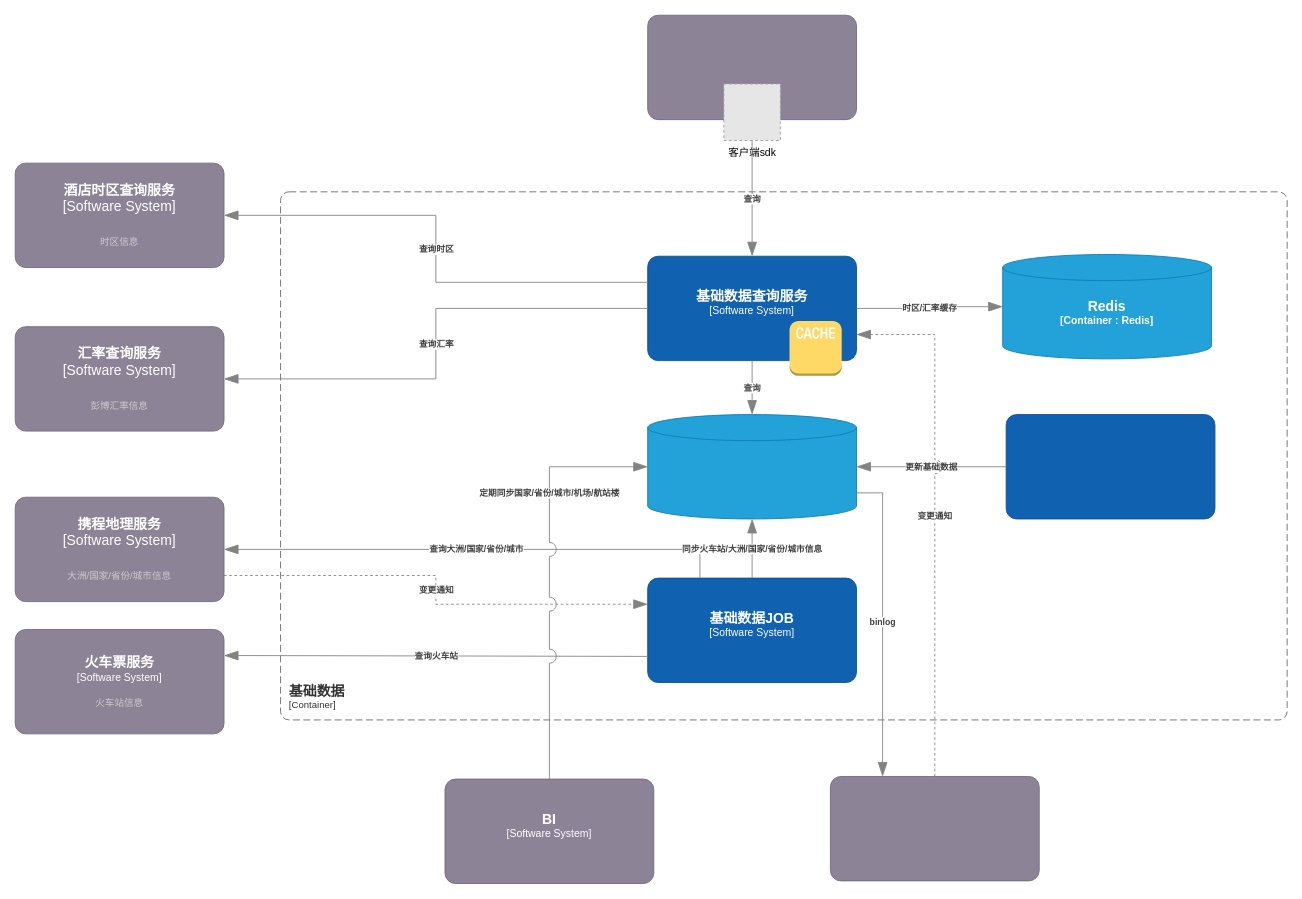
Some shapes in this 1302 by 899 pixel diagram are drawn without their labels. Grey dashed boxes stand in for pictures. The box of each missing label's shape, as (x1, y1, x2, y2) in pixels:
MySQL [Container : MySQL]: (647, 414, 857, 519)
otter [Software System] canal: (830, 776, 1039, 881)
业务应用 [Software System]: (647, 14, 857, 120)
全量本地缓存: (789, 320, 842, 376)
基础数据管理后台 [Software System]: (1005, 414, 1215, 519)
